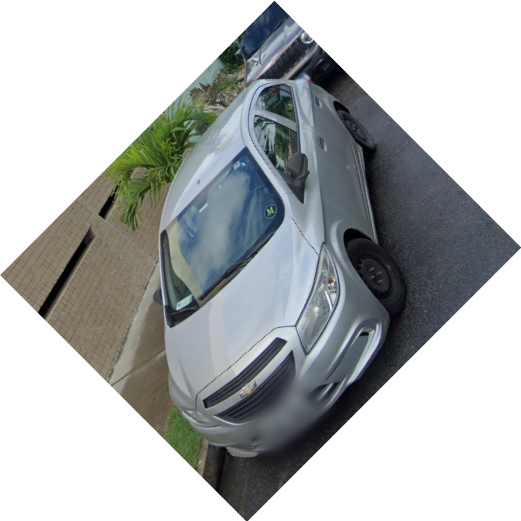car: (156, 74, 397, 452)
